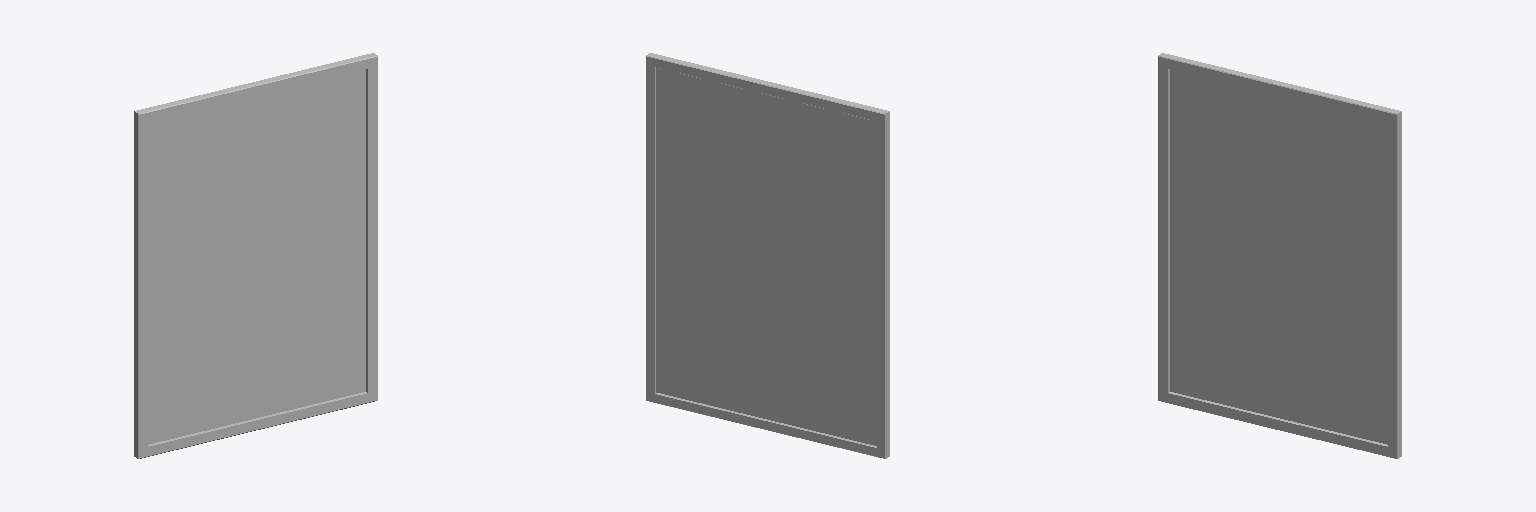
3 views of the same model, side by side, from view 1: azimuth 30°, elevation 25°; view 2: azimuth 150°, elevation 25°; view 3: azimuth 330°, elevation 25° (orthographic).
Parts seen in each view (by area): view 1: A0.obj; view 2: A0.obj; view 3: A0.obj.
Part boxes in pixels (x1,y1,x2,y2): A0.obj: (134, 53, 377, 458); A0.obj: (646, 53, 889, 458); A0.obj: (1158, 53, 1401, 458).
Bounding box in the file's own units: 0.9158 × 1.26 × 0.0298.